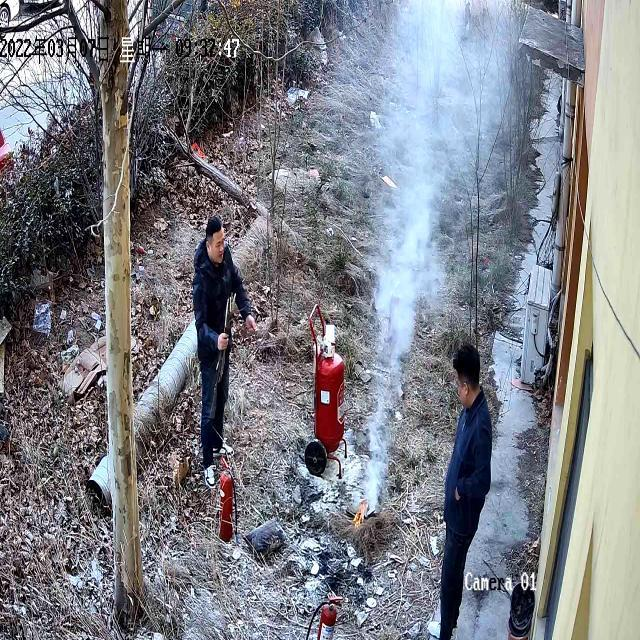Fire: (347, 502, 377, 534)
Smoke: (317, 2, 554, 298), (358, 296, 427, 514)
